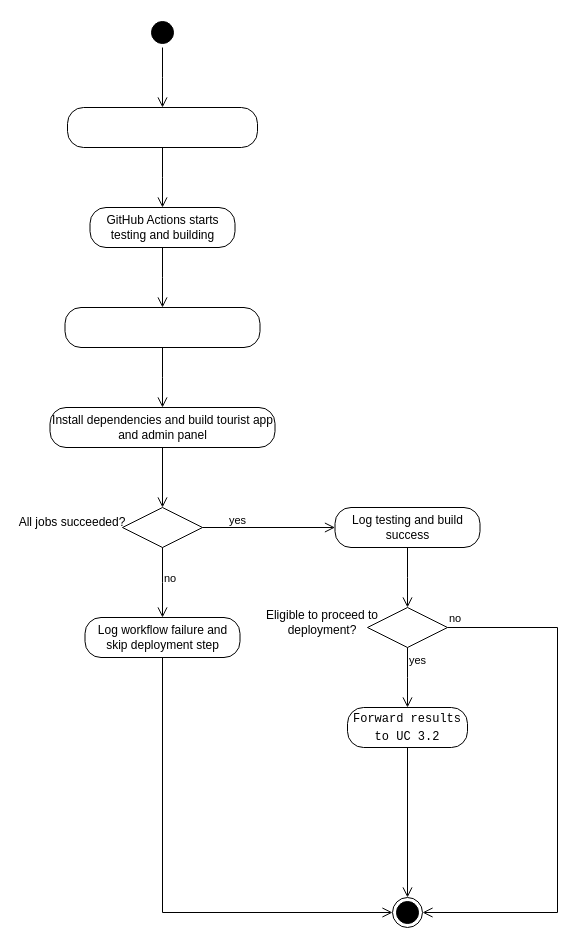
The diagram is 585 pixels wide and 945 high, and some of its shapes have lost their labels. The shapes that lost their labels are listed below. From the top down, each one's centre as x and y in pixels, then its label:
At (162,127): "Changes require testing or actor manually triggers workflow".
At (162,327): "Check syntax of both backends and run Translation Service tests".
